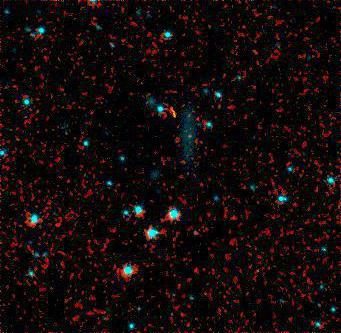star: (159, 91, 189, 121)
